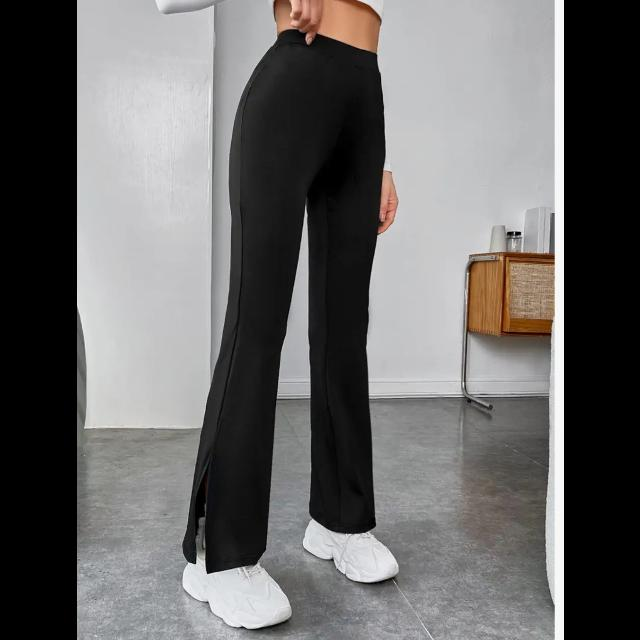bottom: (227, 31, 373, 558)
